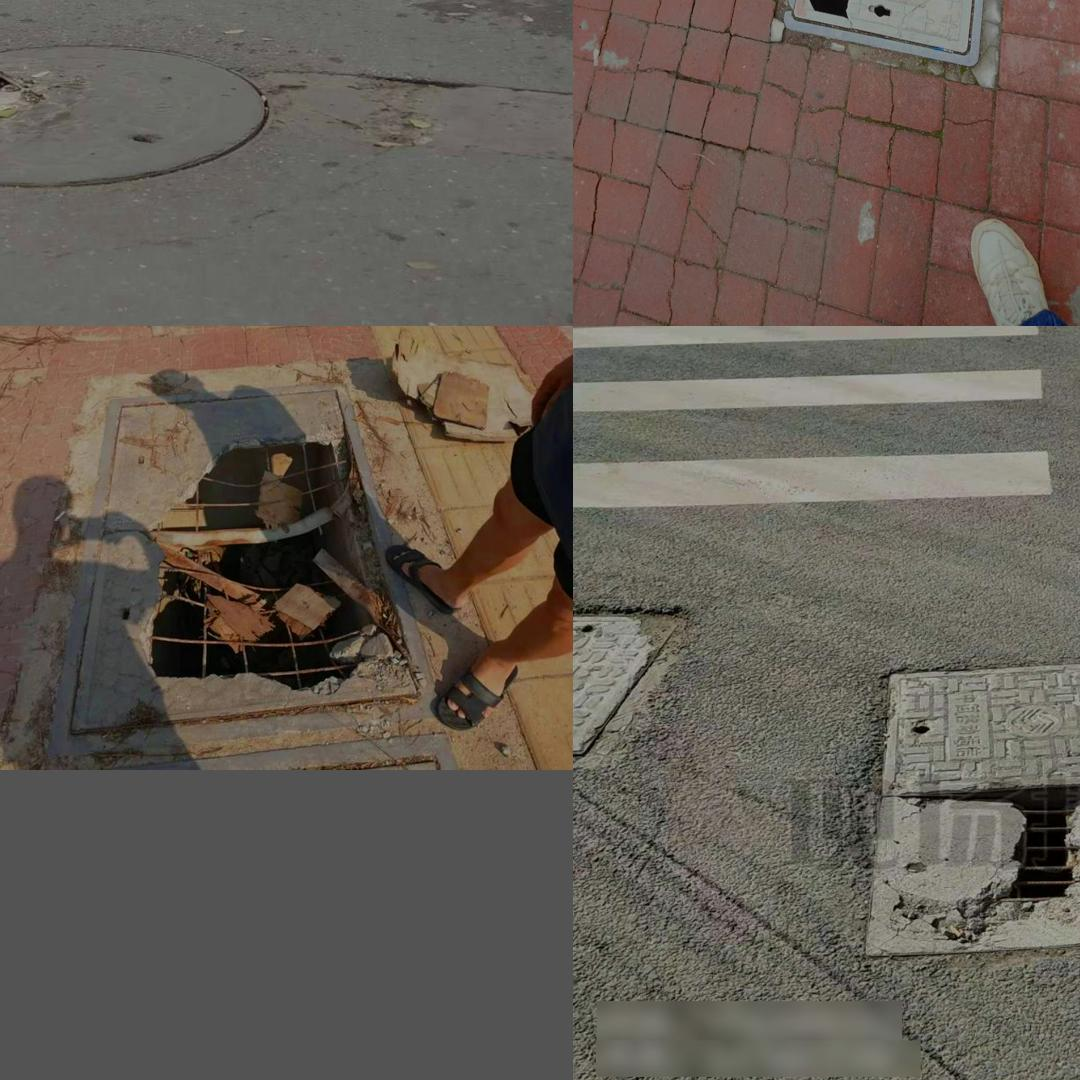broke: (80, 381, 431, 735), (861, 659, 1080, 959), (0, 45, 267, 185), (782, 0, 1007, 66)
